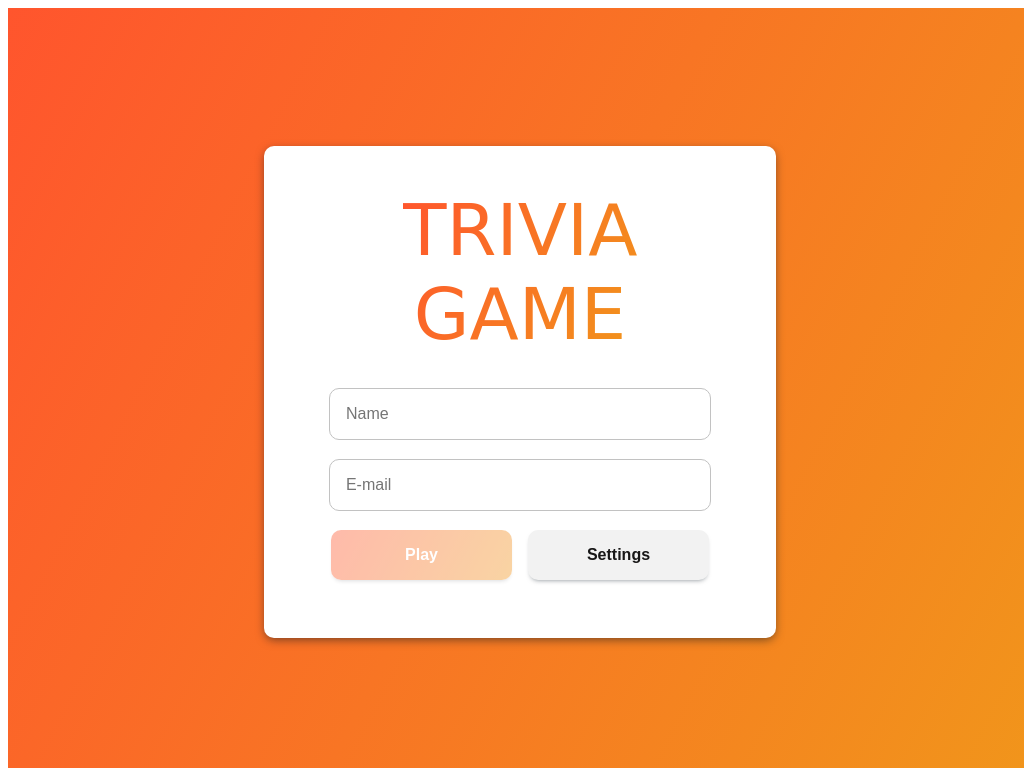
Test: Testando a Página Login e seus respectivos componentes › Verifica se ao digitar um nome e email válido, o botão é habilitado
Type "narutinho" into the field with placeholder "Name" at (520, 414), box [329,388,711,440]
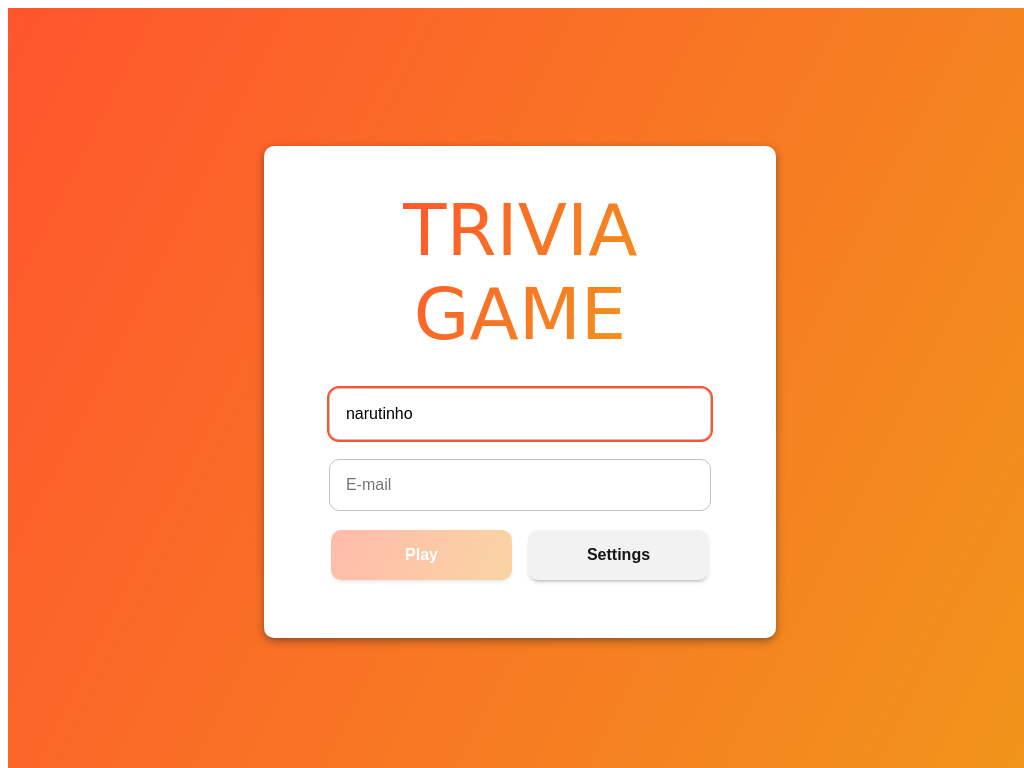
Type "naruto@naruto.com" into the field with placeholder "E-mail" at (520, 485), box [329,459,711,511]
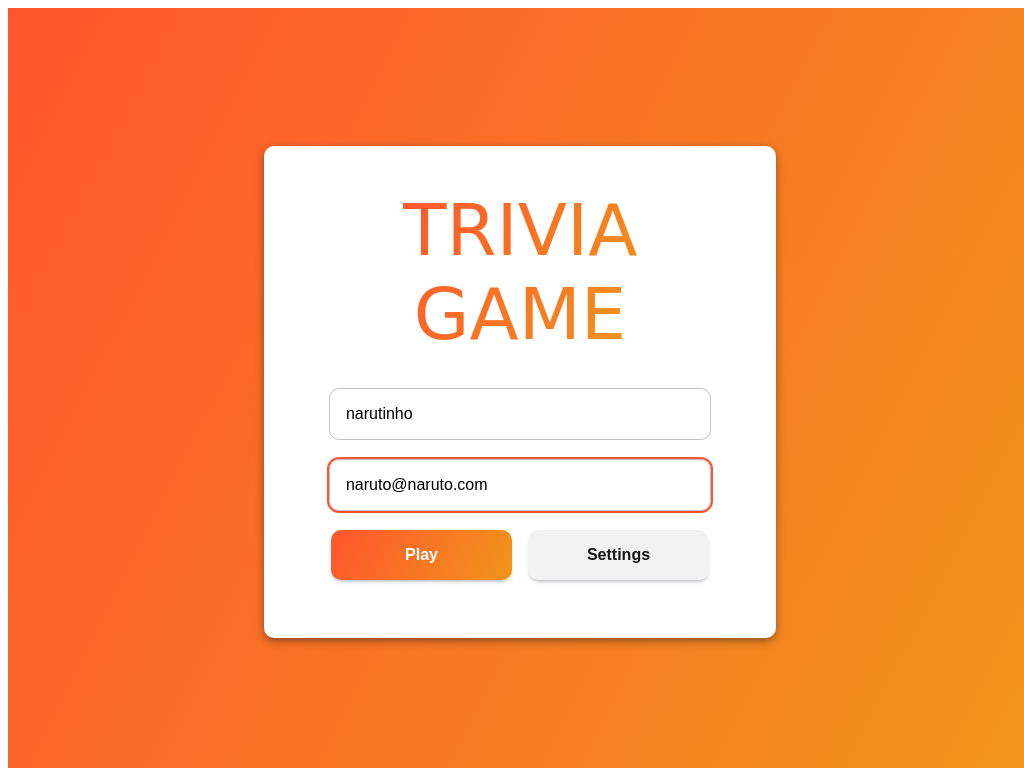
Now the button "Play" is enabled, box [331,530,512,580]
